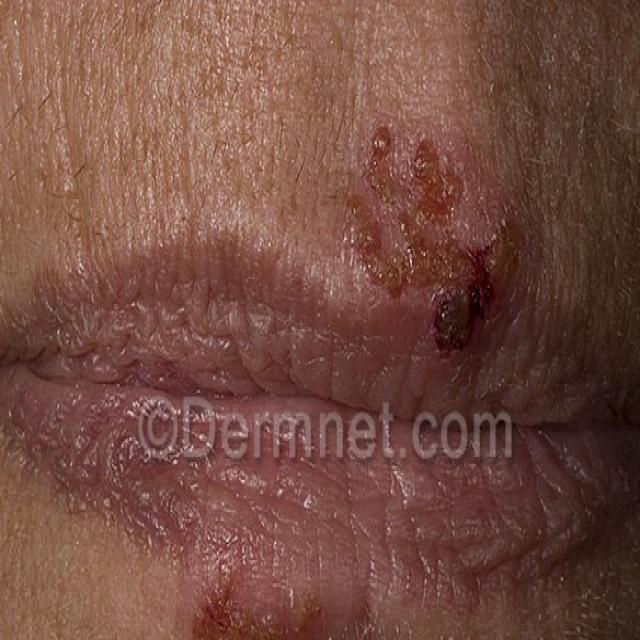Viral Infections: (344, 87, 518, 352), (191, 538, 303, 640)
